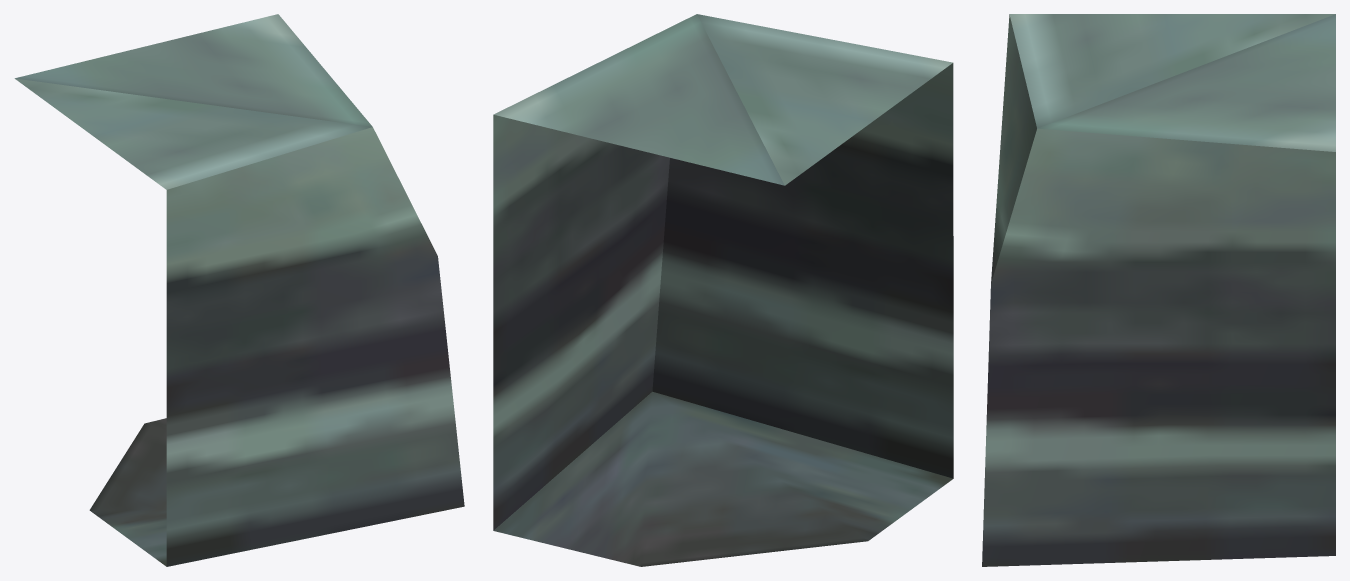
Rendered from crypt_cap_convex_01.fbx.
3 views of the same model, side by side, from view 1: azimuth 30°, elevation 25°; view 2: azimuth 150°, elevation 25°; view 3: azimuth 270°, elevation 25° (orthographic). The views are drawn at different scales.
Visible parts, largest first — view 1: crypt_cap_convex_01-0; view 2: crypt_cap_convex_01-0; view 3: crypt_cap_convex_01-0.
Part boxes in pixels (x1,y1,x2,y2): crypt_cap_convex_01-0: [14, 14, 464, 566]; crypt_cap_convex_01-0: [493, 14, 953, 566]; crypt_cap_convex_01-0: [982, 14, 1335, 566].
Bounding box in the file's own units: 0.4007 × 0.5058 × 0.4019.
